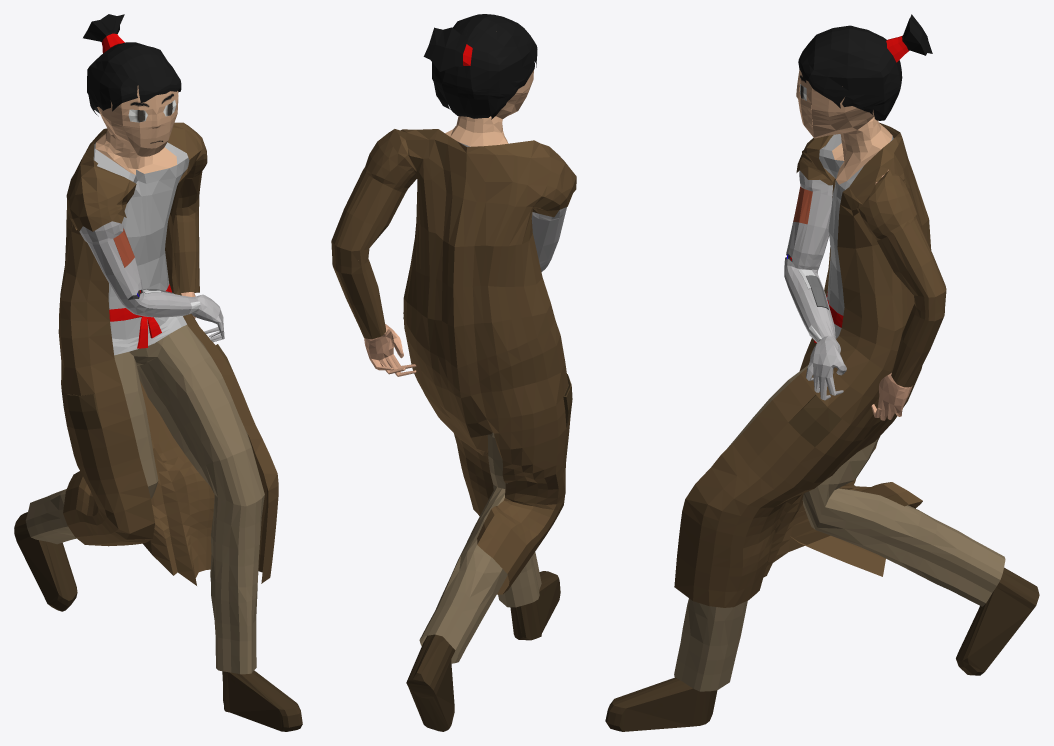
The model's file is One_RB_000008.obj.
3 views of the same model, side by side, from view 1: azimuth 30°, elevation 25°; view 2: azimuth 150°, elevation 25°; view 3: azimuth 270°, elevation 25° (orthographic). The views are drawn at different scales.
Visible parts, largest first — view 1: Hair_Cube.004; view 2: Hair_Cube.004; view 3: Hair_Cube.004.
Part boxes in pixels (bbox=[...]): Hair_Cube.004: bbox=[14, 14, 302, 731]; Hair_Cube.004: bbox=[331, 14, 576, 731]; Hair_Cube.004: bbox=[605, 14, 1039, 731].
Bounding box in the file's own units: 1.05 × 3.7 × 2.12.
